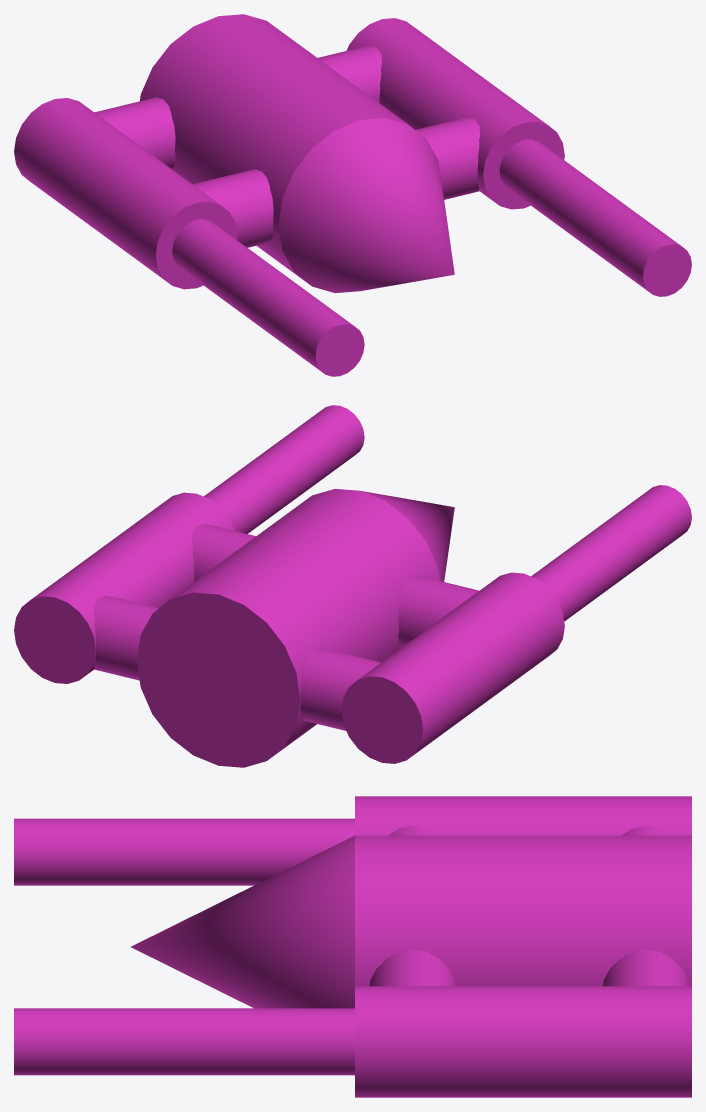
File: zikki.fbx
The picture shows the model from 3 angles, top to bottom: view 1: azimuth 30°, elevation 25°; view 2: azimuth 150°, elevation 25°; view 3: azimuth 270°, elevation 25°; orthographic projection. The views are drawn at different scales.
Visible parts, largest first — view 1: group2_pasted__group_pasted__pasted__pCylinder1; view 2: group2_pasted__group_pasted__pasted__pCylinder1; view 3: group2_pasted__group_pasted__pasted__pCylinder1.
Part boxes in pixels (box(x1,y1,x2,y2)): group2_pasted__group_pasted__pasted__pCylinder1: box(14, 14, 691, 376); group2_pasted__group_pasted__pasted__pCylinder1: box(14, 405, 691, 767); group2_pasted__group_pasted__pasted__pCylinder1: box(14, 796, 691, 1097).
Bounding box in the file's own units: 5 × 2 × 6.04.
